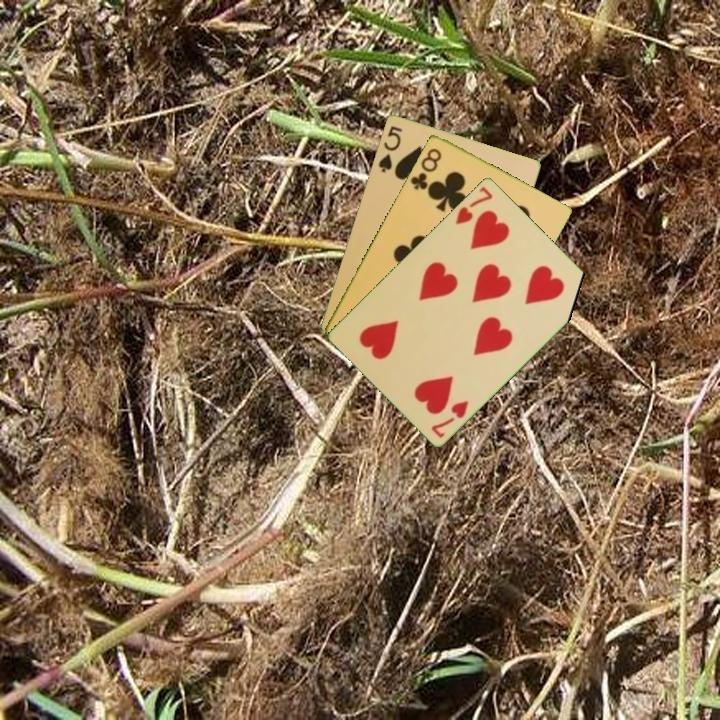5s: (375, 122, 405, 175)
7h: (452, 182, 496, 227), (428, 396, 471, 441)
8c: (406, 144, 444, 193)
